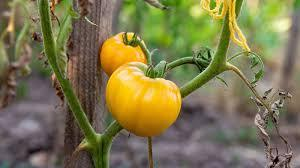Masak: (104, 63, 184, 141), (98, 32, 151, 79)
